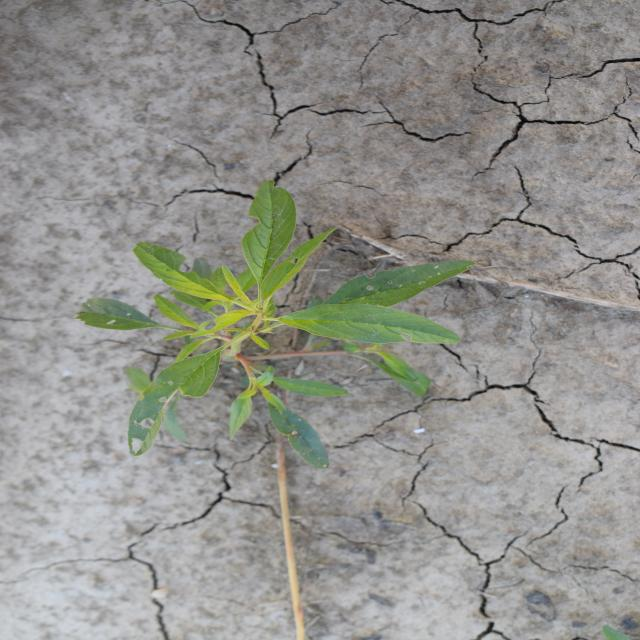Waterhemp: (73, 177, 480, 470)
